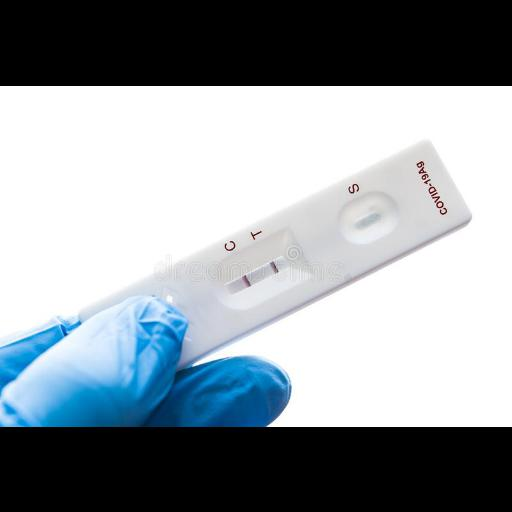Pos: (84, 136, 476, 395)
